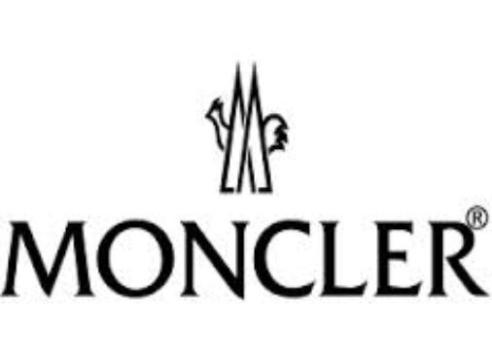MONCLER: (3, 214, 492, 307), (202, 58, 288, 195)
